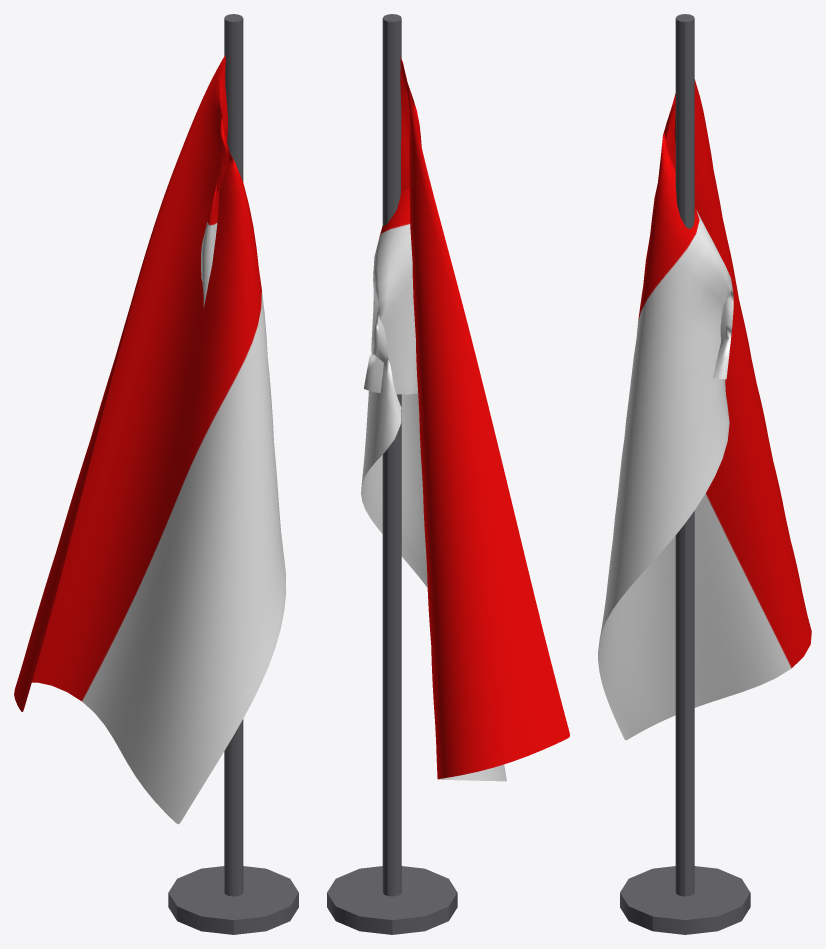
The model's file is bendera perpus.fbx.
3 views of the same model, side by side, from view 1: azimuth 30°, elevation 25°; view 2: azimuth 150°, elevation 25°; view 3: azimuth 270°, elevation 25° (orthographic).
Visible parts, largest first — view 1: Plane.041, Cylinder.009; view 2: Plane.041, Cylinder.009; view 3: Plane.041, Cylinder.009.
Part boxes in pixels (x1,y1,x2,y2): Plane.041: [14, 55, 286, 824]; Cylinder.009: [168, 14, 298, 934]; Plane.041: [361, 56, 569, 781]; Cylinder.009: [327, 14, 457, 934]; Plane.041: [598, 79, 811, 740]; Cylinder.009: [620, 14, 750, 934].
Bounding box in the file's own units: 45.75 × 155 × 33.75.
